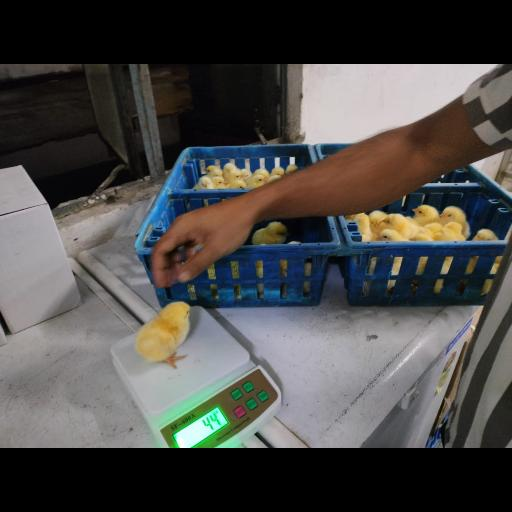chick: (135, 300, 191, 369)
